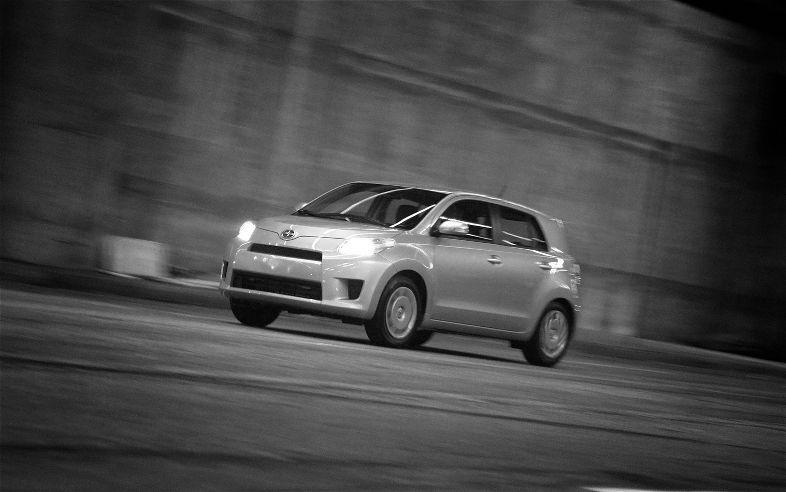car: (217, 179, 585, 369)
